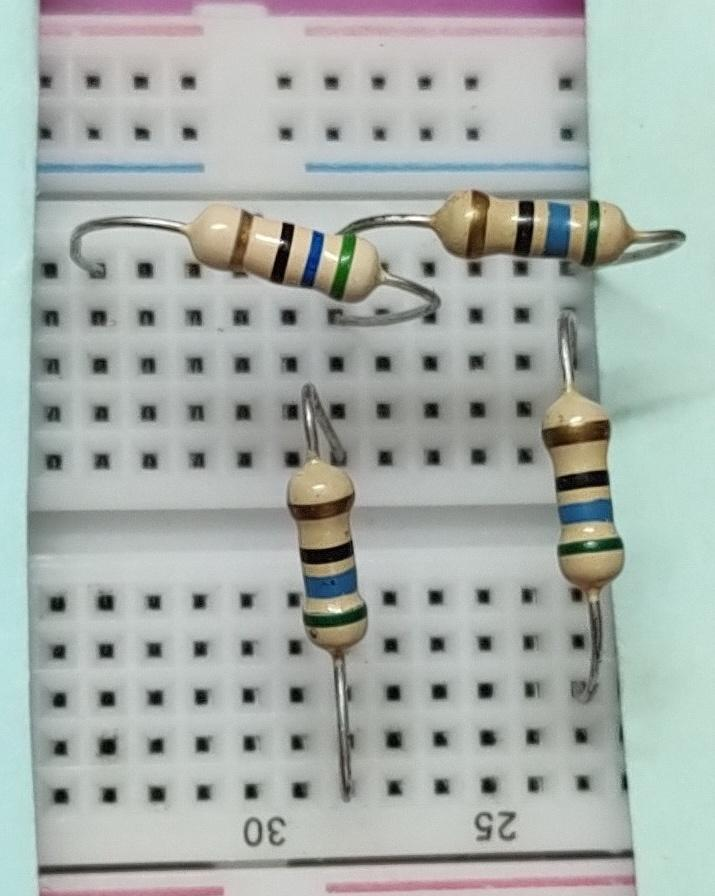resistor: (172, 190, 385, 310), (530, 390, 638, 608), (275, 448, 380, 655), (420, 182, 655, 272)
